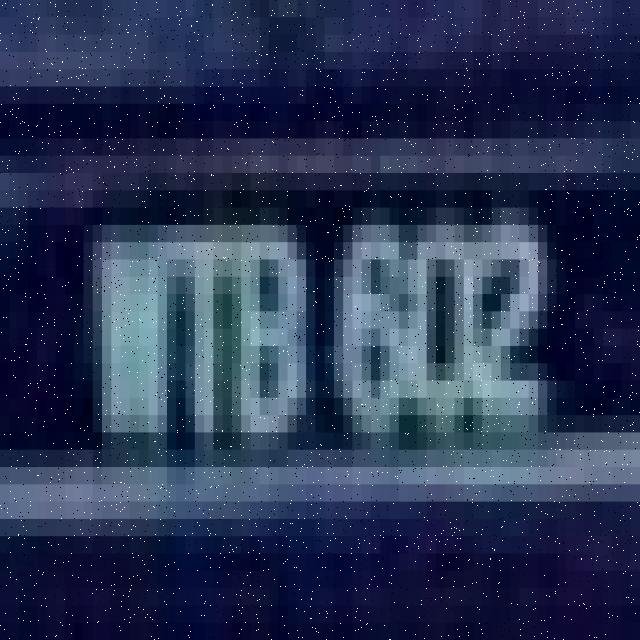licenseplate: (0, 154, 640, 508)
